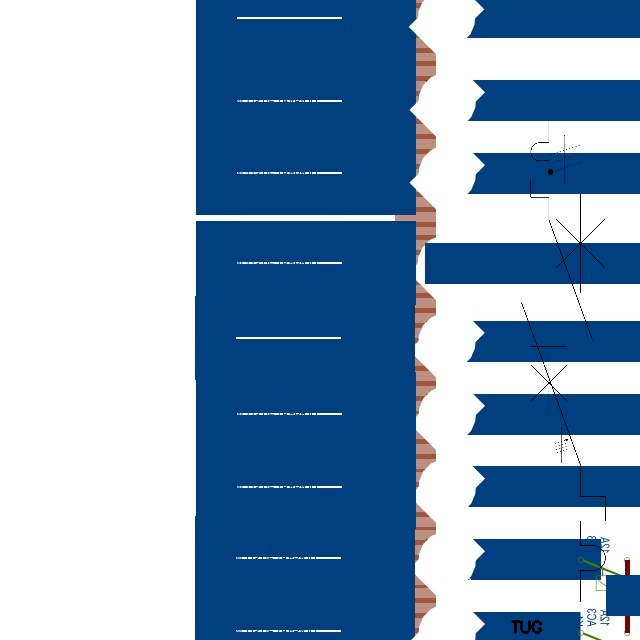interruptor_termomagnetico: (511, 183, 616, 611), (523, 112, 600, 427)
